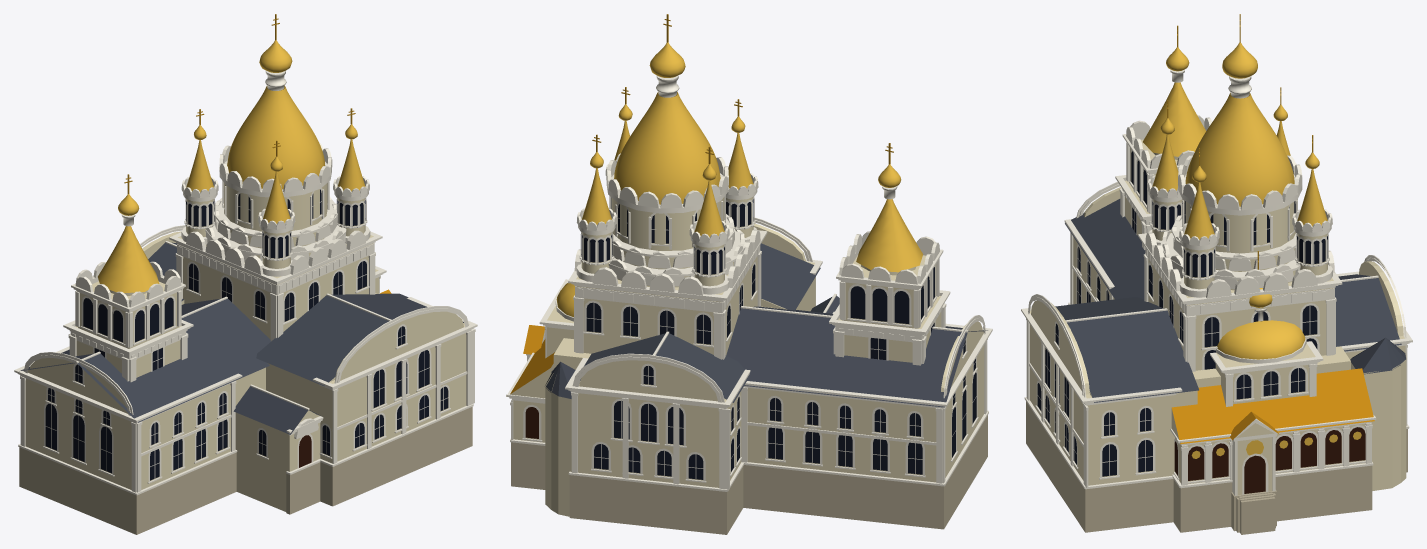
The model's file is pokrovsky_sobor.glb.
3 views of the same model, side by side, from view 1: azimuth 30°, elevation 25°; view 2: azimuth 150°, elevation 25°; view 3: azimuth 270°, elevation 25° (orthographic). The views are drawn at different scales.
Visible parts, largest first — view 1: pokrovsky_sobor_trim, pokrovsky_sobor_wall, pokrovsky_sobor_wall2, pokrovsky_sobor_stone, pokrovsky_sobor_roof, pokrovsky_sobor_glass; view 2: pokrovsky_sobor_trim, pokrovsky_sobor_wall, pokrovsky_sobor_stone, pokrovsky_sobor_wall2, pokrovsky_sobor_roof, pokrovsky_sobor_glass, pokrovsky_sobor_wall3; view 3: pokrovsky_sobor_trim, pokrovsky_sobor_wall, pokrovsky_sobor_wall2, pokrovsky_sobor_roof, pokrovsky_sobor_stone, pokrovsky_sobor_glass, pokrovsky_sobor_wall3, pokrovsky_sobor_wood.
Boxes of the visible parts, x1,y1,x2,y2 form: pokrovsky_sobor_trim: (14, 70, 477, 495); pokrovsky_sobor_wall: (23, 183, 469, 511); pokrovsky_sobor_wall2: (19, 242, 463, 434); pokrovsky_sobor_stone: (19, 406, 472, 534); pokrovsky_sobor_roof: (98, 40, 365, 292); pokrovsky_sobor_glass: (45, 185, 448, 480); pokrovsky_sobor_trim: (507, 75, 992, 491); pokrovsky_sobor_wall: (506, 196, 984, 516); pokrovsky_sobor_stone: (511, 415, 987, 534); pokrovsky_sobor_wall2: (545, 243, 987, 407); pokrovsky_sobor_roof: (556, 42, 923, 317); pokrovsky_sobor_glass: (581, 197, 976, 479); pokrovsky_sobor_wall3: (510, 325, 554, 393); pokrovsky_sobor_trim: (1021, 69, 1412, 495); pokrovsky_sobor_wall: (1030, 139, 1406, 494); pokrovsky_sobor_wall2: (1055, 199, 1405, 402); pokrovsky_sobor_roof: (1143, 42, 1361, 458); pokrovsky_sobor_stone: (1026, 401, 1407, 534); pokrovsky_sobor_glass: (1037, 151, 1327, 476); pokrovsky_sobor_wall3: (1171, 368, 1374, 444); pokrovsky_sobor_wood: (1174, 427, 1365, 493).
Bounding box in the file's own units: 42.06 × 42.35 × 33.35.
